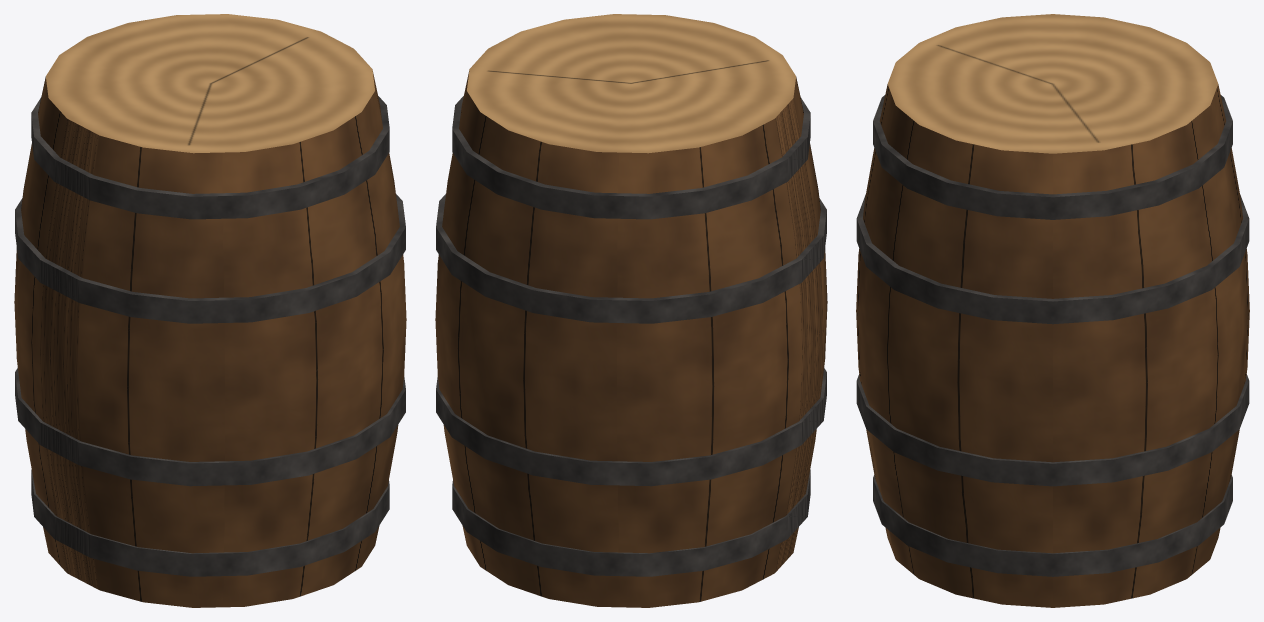
Rendered from Barrel.gltf.
3 views of the same model, side by side, from view 1: azimuth 30°, elevation 25°; view 2: azimuth 150°, elevation 25°; view 3: azimuth 270°, elevation 25° (orthographic).
Parts seen in each view (by area): view 1: Barrel; view 2: Barrel; view 3: Barrel.
Part boxes in pixels (bbox=[...]): Barrel: bbox=[14, 14, 406, 607]; Barrel: bbox=[435, 14, 827, 607]; Barrel: bbox=[856, 14, 1249, 607].
Size of the model in its own units: 1.1 by 1.4 by 1.1.
Materials: 3 (3 with a texture image).
